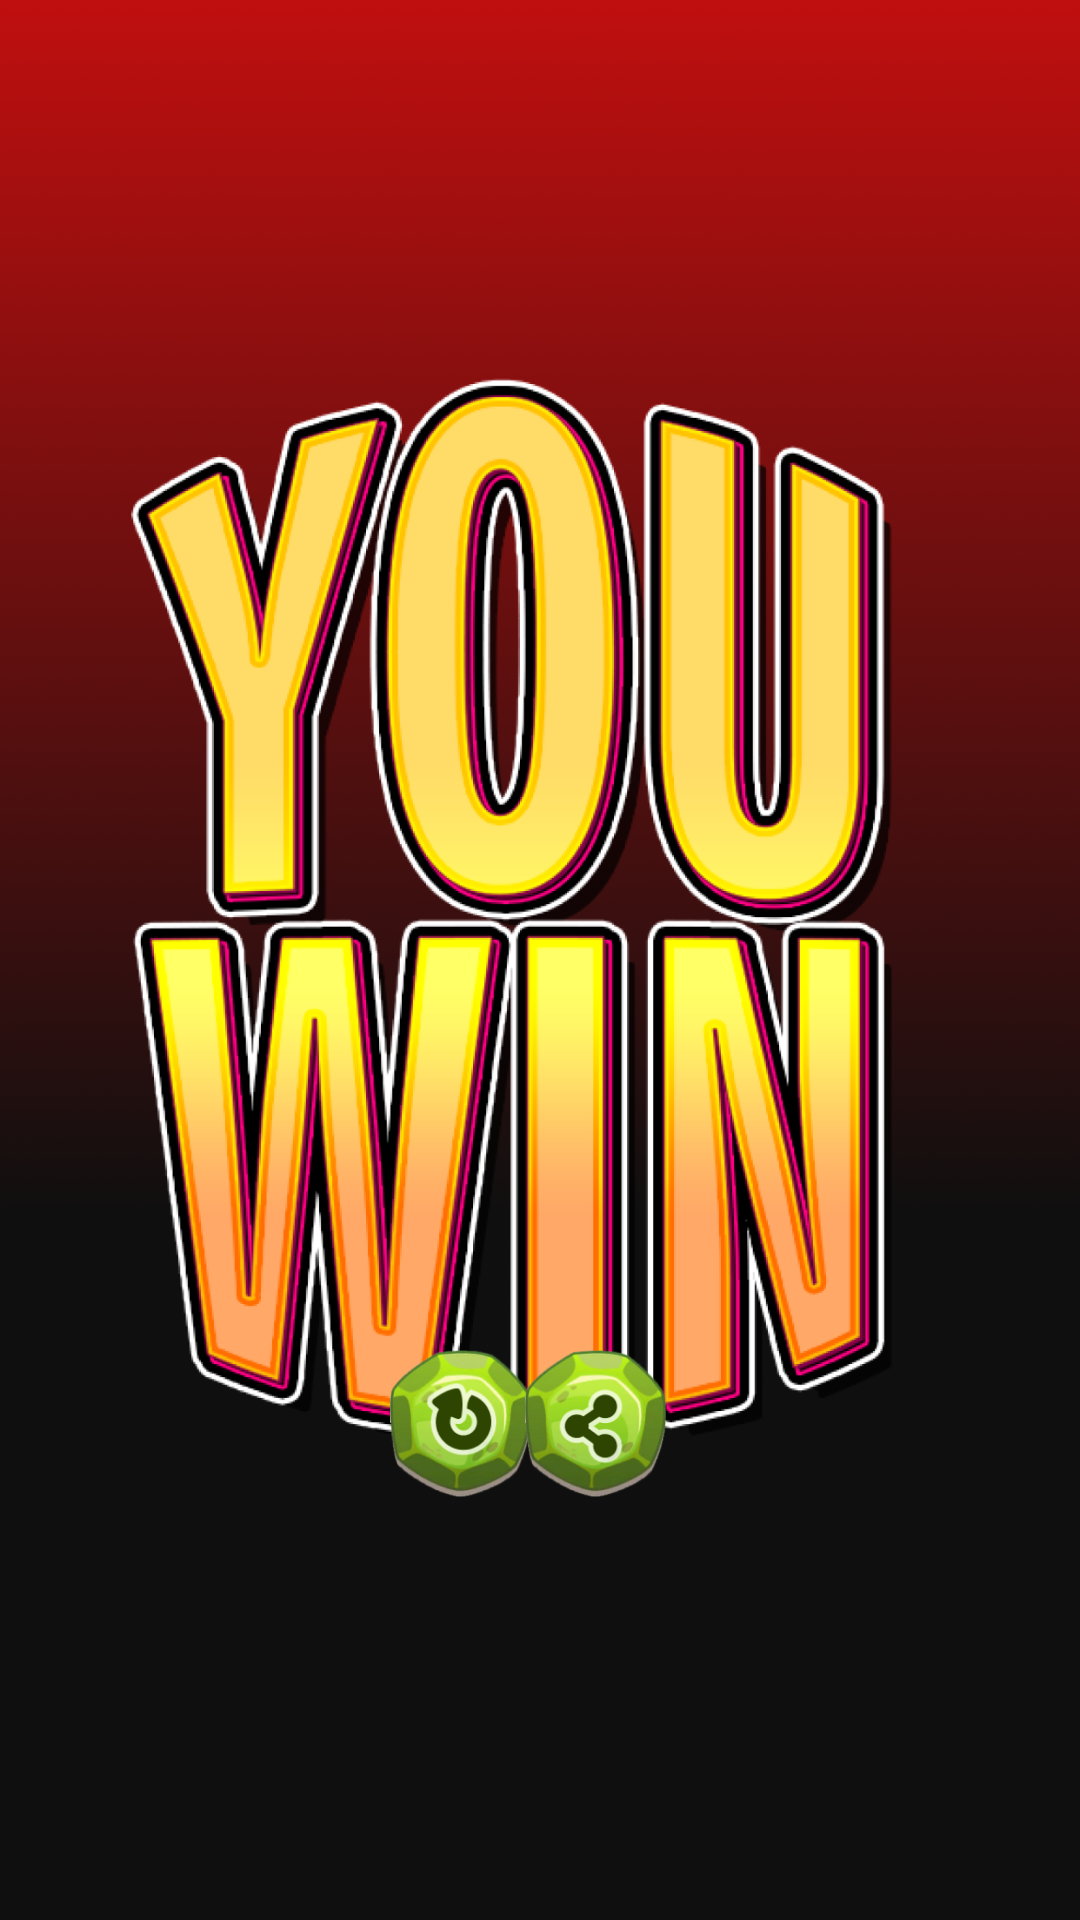

Screen size 1080px×1920px. Icon name, then its center in pixels as (x=x, y=y):
retry: (x=460, y=1423)
